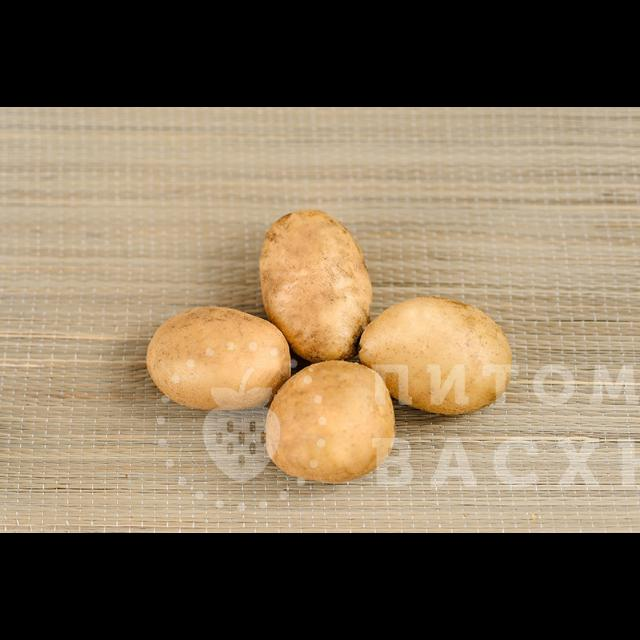Potato: (360, 296, 512, 414), (260, 210, 376, 362), (264, 360, 398, 484), (146, 306, 292, 412)
